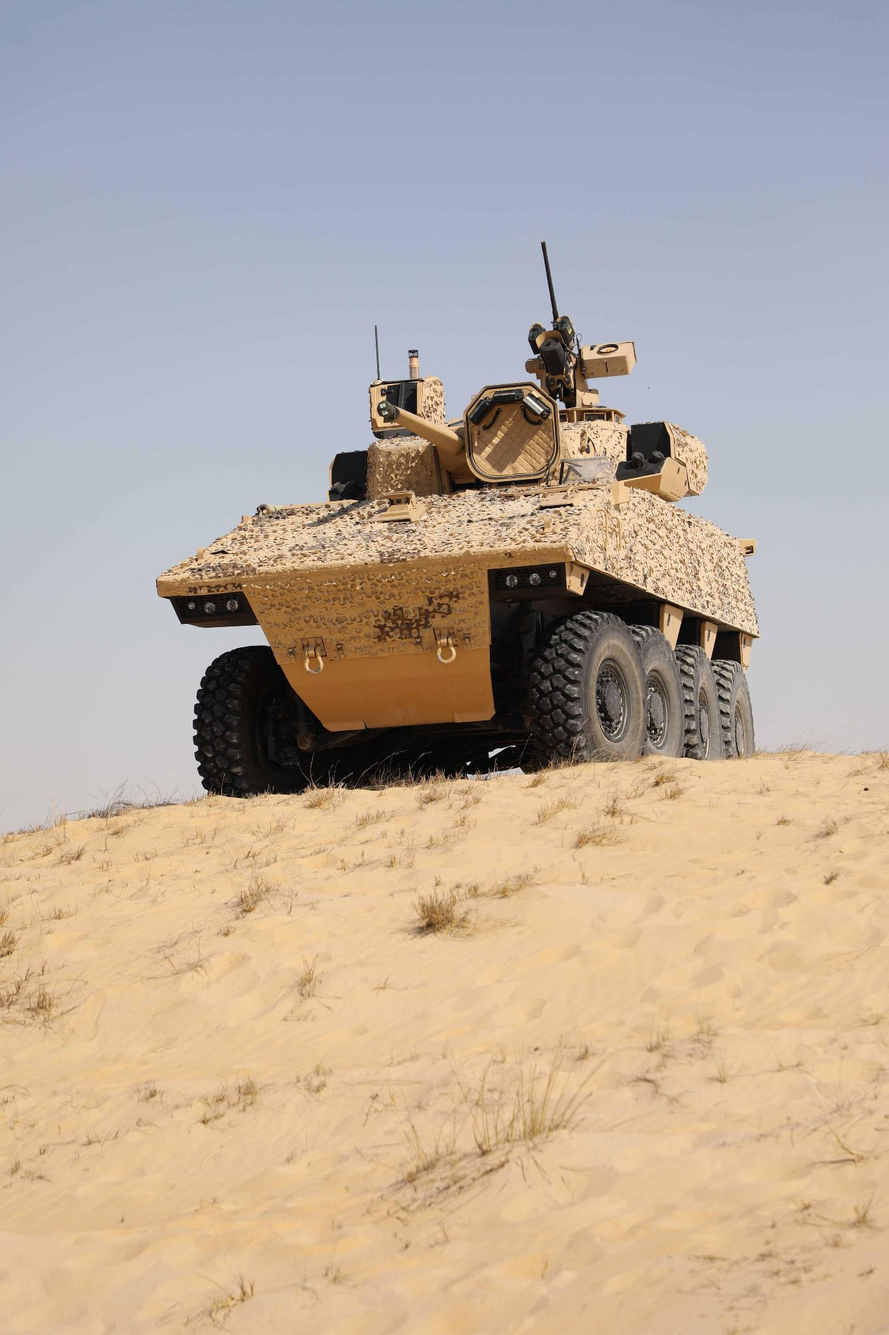tank: (156, 240, 761, 799)
